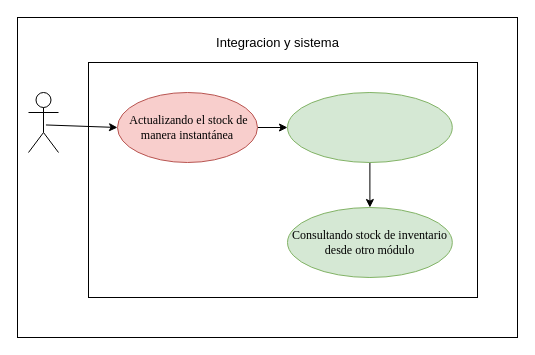
This 535x355 diagram has some shape labels left out. The shapes that lost their labels are listed below. From the top down, each one's centre as x and y in pixels, then its label:
the point at 43,122: JOP
the point at 369,127: Registrando movimiento de inventario desde otro módulo
